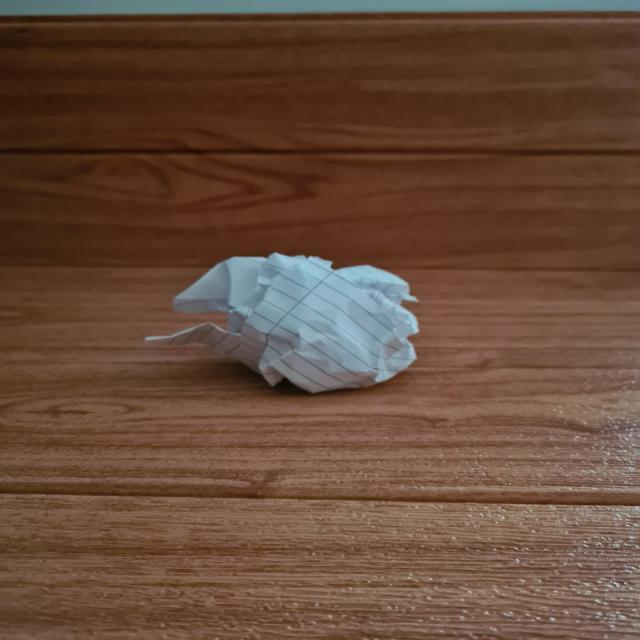Paper: (148, 257, 420, 387)
